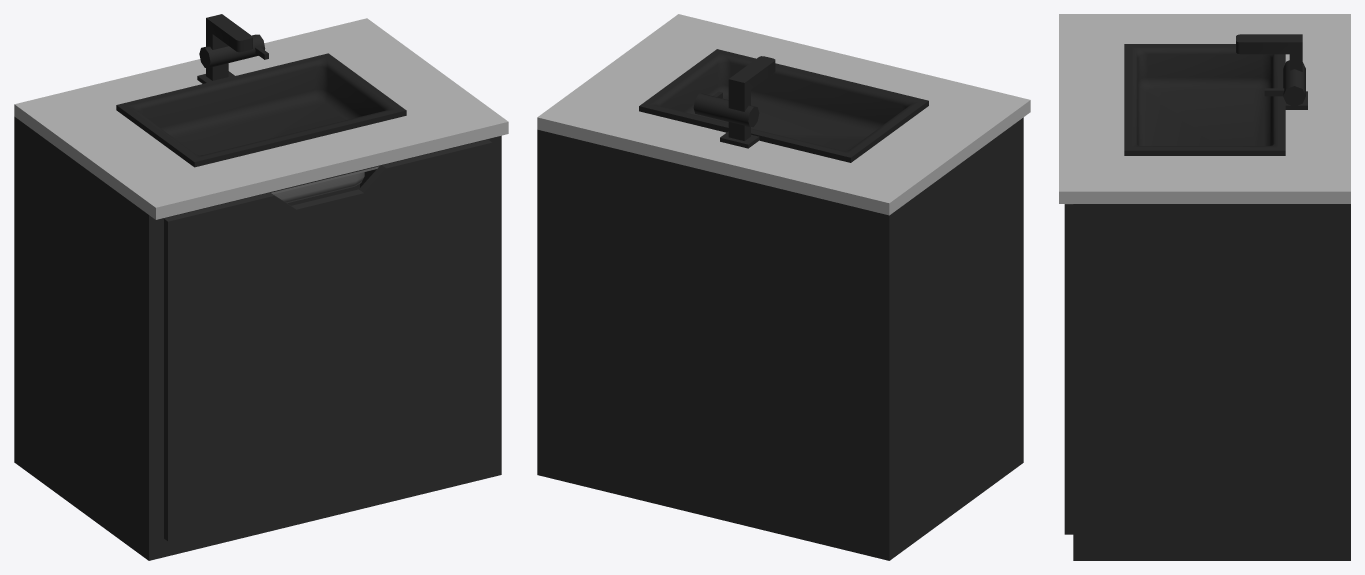
The model's file is KitchenCounter_Sink_01.fbx.
3 views of the same model, side by side, from view 1: azimuth 30°, elevation 25°; view 2: azimuth 150°, elevation 25°; view 3: azimuth 270°, elevation 25° (orthographic). The views are drawn at different scales.
Visible parts, largest first — view 1: KitchenCounter_Sink_01, KitchenCounter_Sink_01_Drawer; view 2: KitchenCounter_Sink_01; view 3: KitchenCounter_Sink_01, KitchenCounter_Sink_01_Drawer.
Part boxes in pixels (bbox=[...]): KitchenCounter_Sink_01: bbox=[14, 14, 508, 560]; KitchenCounter_Sink_01_Drawer: bbox=[164, 139, 492, 541]; KitchenCounter_Sink_01: bbox=[537, 14, 1030, 560]; KitchenCounter_Sink_01: bbox=[1059, 14, 1350, 560]; KitchenCounter_Sink_01_Drawer: bbox=[1064, 204, 1073, 534].
Bounding box in the file's own units: 1 × 1.14 × 0.6946.
